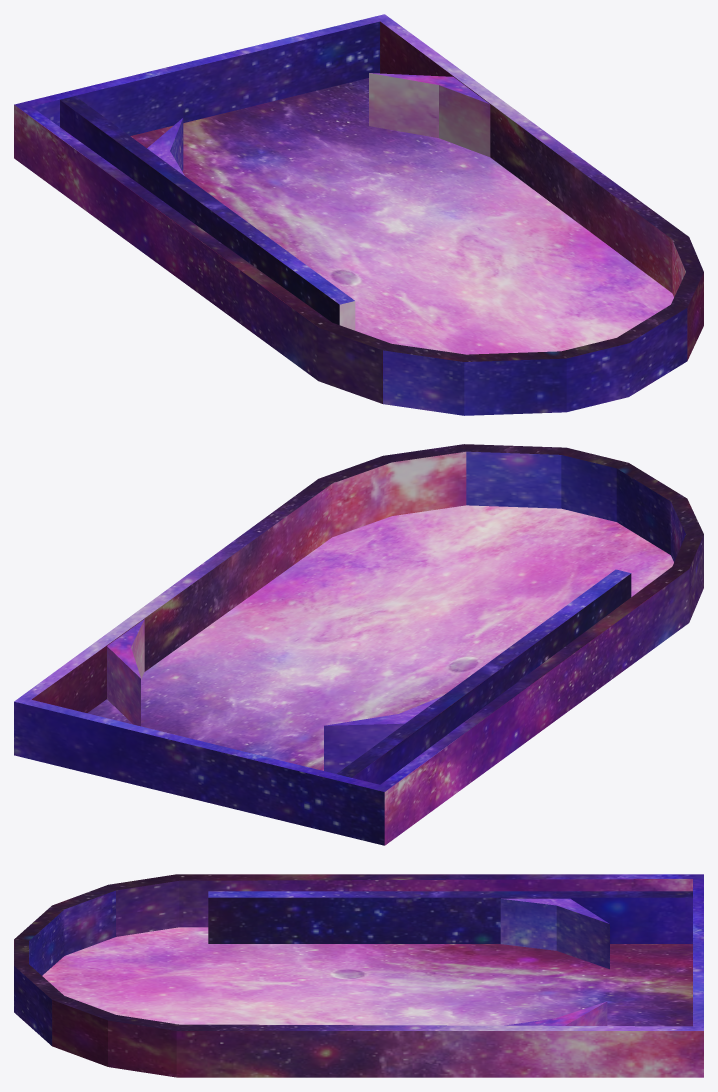
File: pBoard.obj
3 renders of one model, top to bottom at view 1: azimuth 30°, elevation 25°; view 2: azimuth 150°, elevation 25°; view 3: azimuth 270°, elevation 25°, orthographic. The views are drawn at different scales.
Visible parts, largest first — view 1: Cube.002; view 2: Cube.002; view 3: Cube.002.
Boxes of the visible parts, x1=… form: Cube.002: x1=14, y1=14, x2=703, y2=415; Cube.002: x1=14, y1=444, x2=703, y2=845; Cube.002: x1=14, y1=874, x2=703, y2=1077.
Bounding box in the file's own units: 14.32 × 2 × 26.66.
